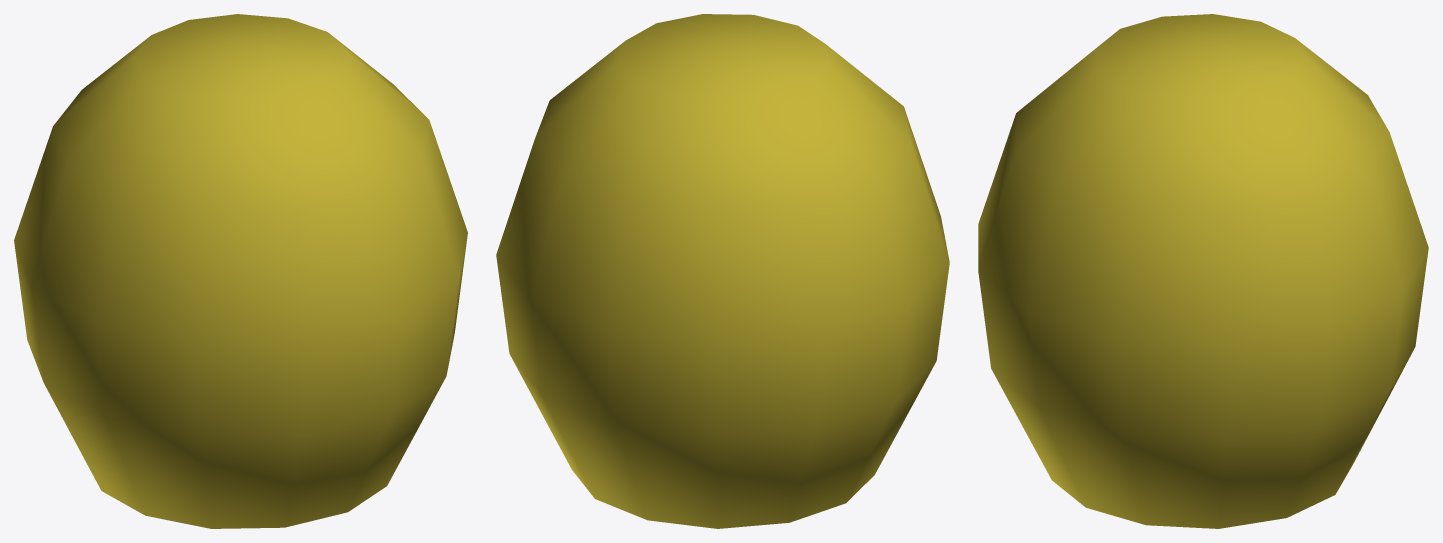
The model's file is sandia.glb.
3 renders of one model, left to right at view 1: azimuth 30°, elevation 25°; view 2: azimuth 150°, elevation 25°; view 3: azimuth 270°, elevation 25°, orthographic.
Parts seen in each view (by area): view 1: Sphere001; view 2: Sphere001; view 3: Sphere001.
Part boxes in pixels (<box>): Sphere001: <box>14,14,467,528</box>; Sphere001: <box>496,14,949,528</box>; Sphere001: <box>978,14,1428,528</box>.
Bounding box in the file's own units: 24.21 × 26.7 × 24.04.
